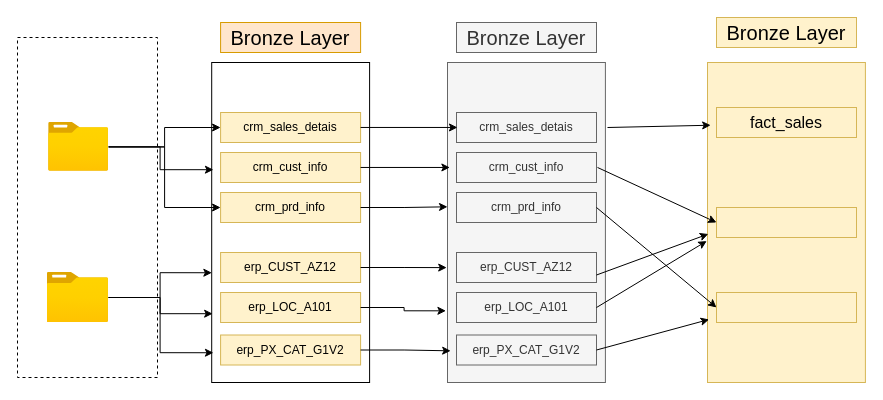
Some shapes in this 883 by 400 pixel diagram are drawn without their labels. The shapes that lost their labels are listed below. From the top down, each one's box as (x1, y1, x2, y2) in pixels, then its label:
(37, 22, 137, 52): Sources
(48, 122, 108, 171): cms
(716, 206, 856, 238): dim_customers
(46, 272, 108, 322): ERP
(716, 292, 856, 322): dim_products
